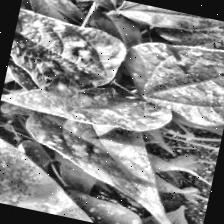Bean Rust: (6, 109, 191, 224), (0, 132, 164, 224), (0, 67, 174, 145), (4, 6, 132, 108), (123, 16, 224, 130)
